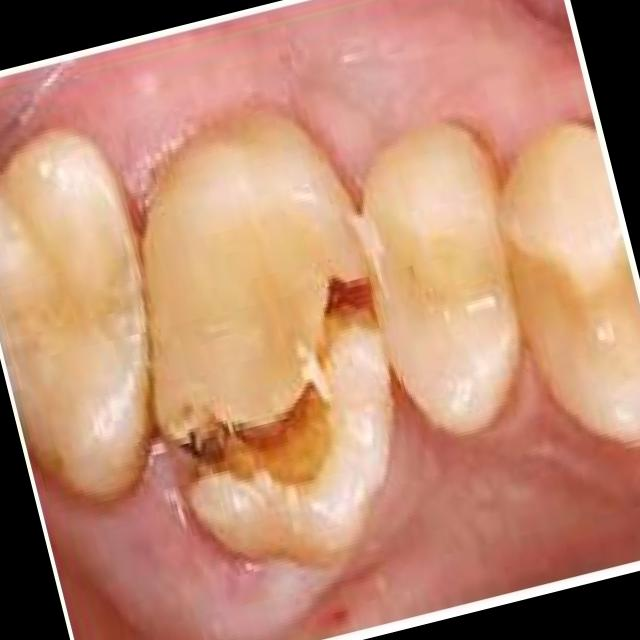Crack: (164, 269, 380, 510)
Tooth: (142, 105, 394, 572), (0, 129, 151, 499), (359, 120, 522, 436), (500, 122, 640, 449)
